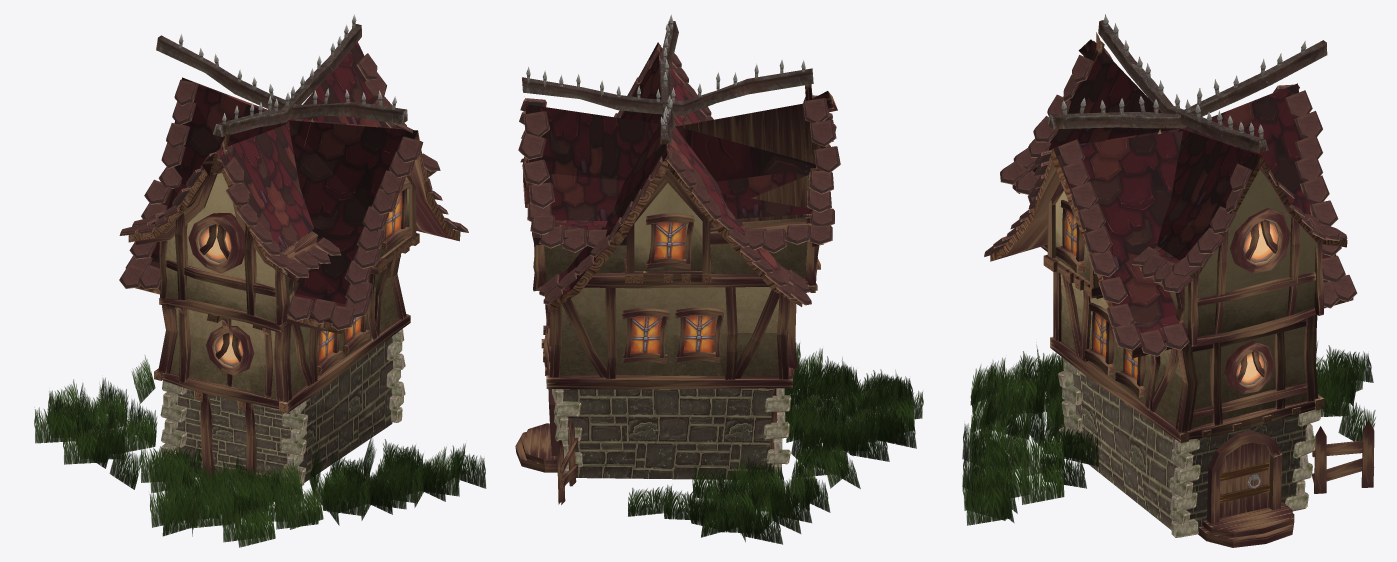
File: v_house_c.glb
3 renders of one model, left to right at view 1: azimuth 30°, elevation 25°; view 2: azimuth 150°, elevation 25°; view 3: azimuth 270°, elevation 25°, orthographic. The views are drawn at different scales.
Visible parts, largest first — view 1: Object_8, Object_26, Object_24, Object_5, Object_18, Object_6, Object_19; view 2: Object_24, Object_8, Object_26, Object_6, Object_18, Object_19, Object_5, Object_28; view 3: Object_8, Object_24, Object_5, Object_26, Object_6, Object_18, Object_19, Object_28.
Boxes of the visible parts, box(x1,y1,x2,y2) form: Object_8: box(119, 14, 468, 487); Object_26: box(34, 355, 486, 547); Object_24: box(128, 131, 460, 486); Object_5: box(149, 42, 457, 322); Object_18: box(175, 336, 393, 485); Object_6: box(165, 118, 409, 398); Object_19: box(150, 118, 428, 268); Object_24: box(515, 52, 837, 472); Object_8: box(518, 14, 840, 477); Object_26: box(628, 342, 923, 544); Object_6: box(544, 115, 808, 376); Object_18: box(563, 388, 772, 479); Object_19: box(525, 104, 819, 289); Object_5: box(546, 42, 802, 294); Object_28: box(557, 421, 578, 504); Object_8: box(984, 14, 1357, 537); Object_24: box(990, 32, 1353, 547); Object_5: box(1048, 41, 1336, 347); Object_26: box(962, 342, 1375, 525); Object_6: box(1055, 129, 1317, 428); Object_18: box(1073, 371, 1307, 537); Object_19: box(1106, 137, 1346, 358); Object_28: box(1312, 420, 1374, 493).
Bounding box in the file's own units: 1054 × 1148 × 1041.
10 materials, 8 textured.
